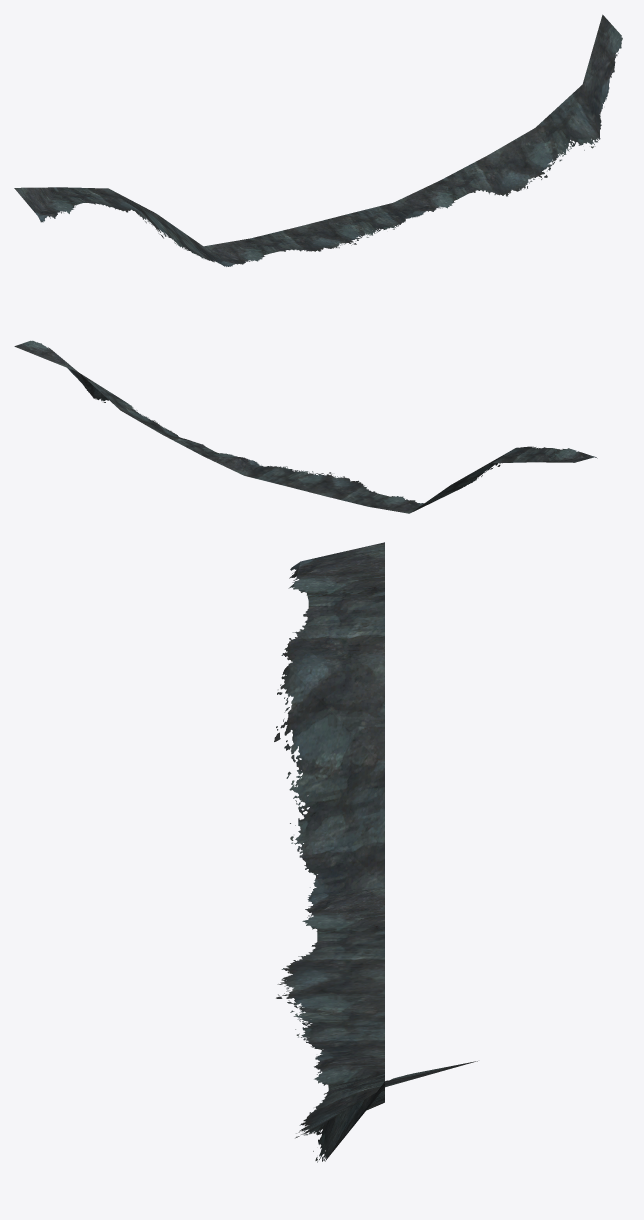
File: blend_weeds21.fbx
The picture shows the model from 3 angles, top to bottom: view 1: azimuth 30°, elevation 25°; view 2: azimuth 150°, elevation 25°; view 3: azimuth 270°, elevation 25°; orthographic projection. The views are drawn at different scales.
Parts seen in each view (by area): view 1: obj0.042; view 2: obj0.042; view 3: obj0.042.
Boxes of the visible parts, <box> form: obj0.042: <box>14,14,622,266</box>; obj0.042: <box>14,340,597,513</box>; obj0.042: <box>274,542,477,1162</box>.
Bounding box in the file's own units: 32.5 × 5.75 × 8.3.
